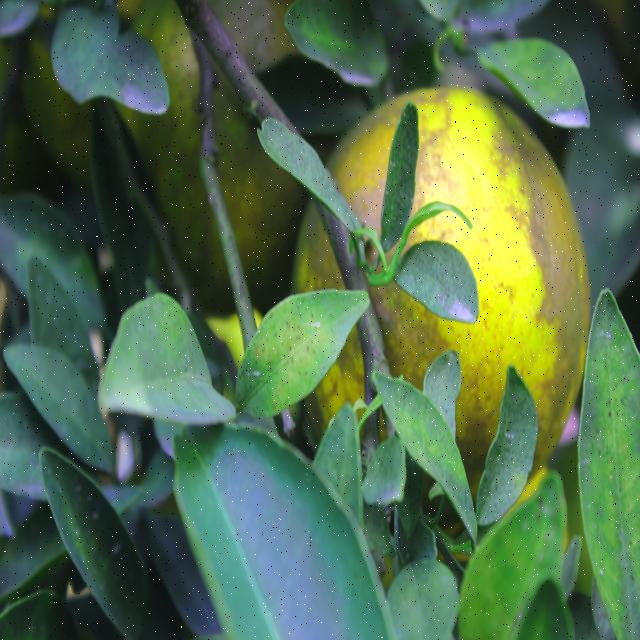blackspot: (241, 297, 347, 417)
